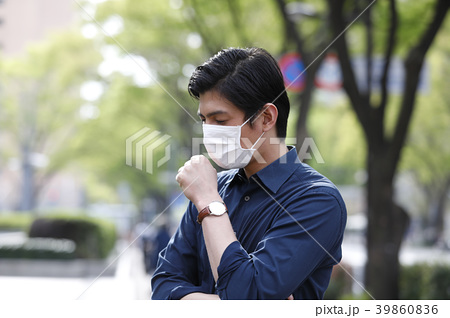mask: (196, 122, 252, 176)
